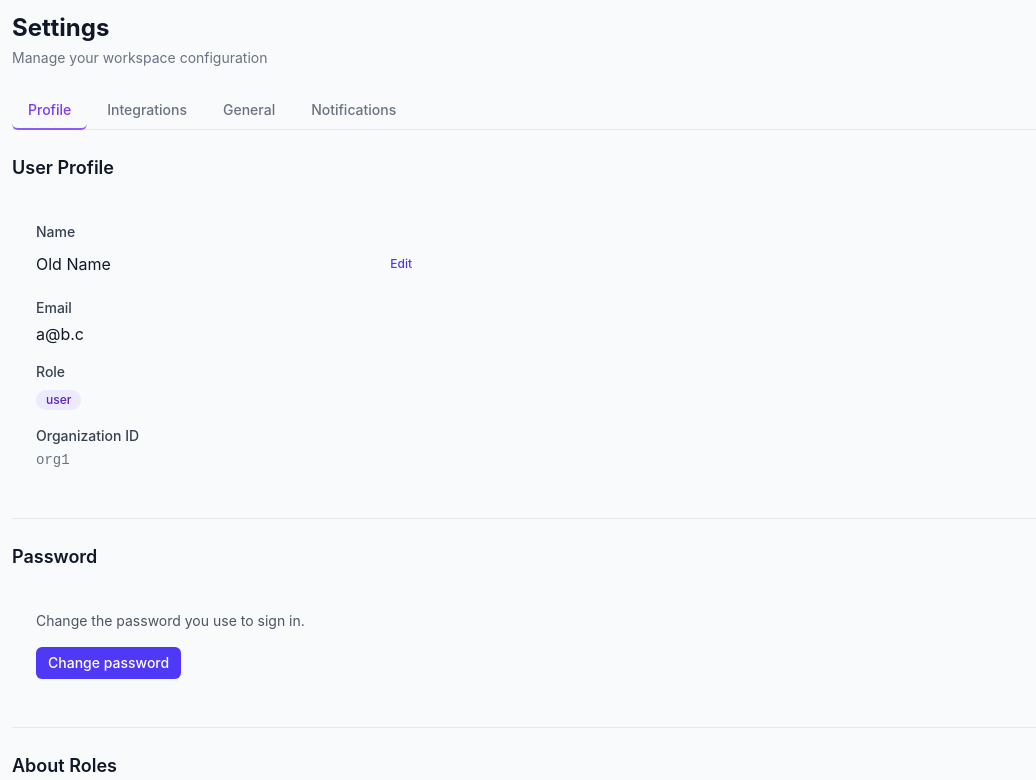
it: Settings → Profile tab → name editing › restores the stored value when the name editor is cancelled
Click the button "Edit": x=401, y=264 top-left (382, 252), bottom-right (420, 276)
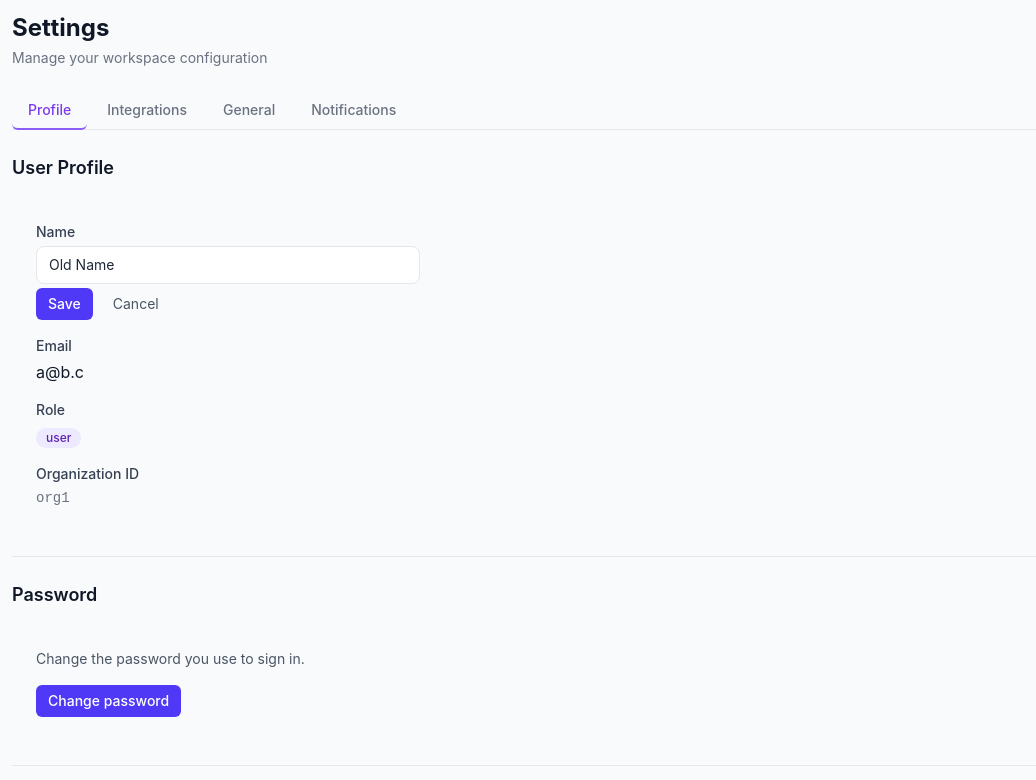
Replace the text in the field labelled "Name" with "Something Else": x=228, y=265 top-left (36, 246), bottom-right (420, 284)
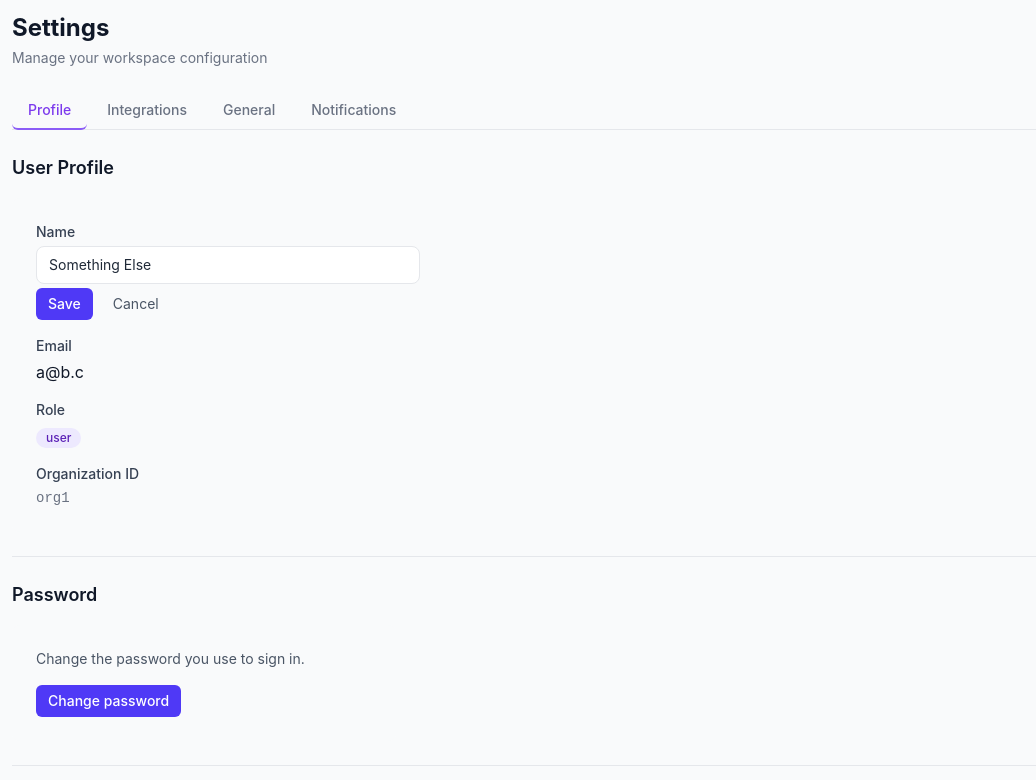
Click the button "Cancel": x=136, y=304 top-left (101, 288), bottom-right (171, 320)
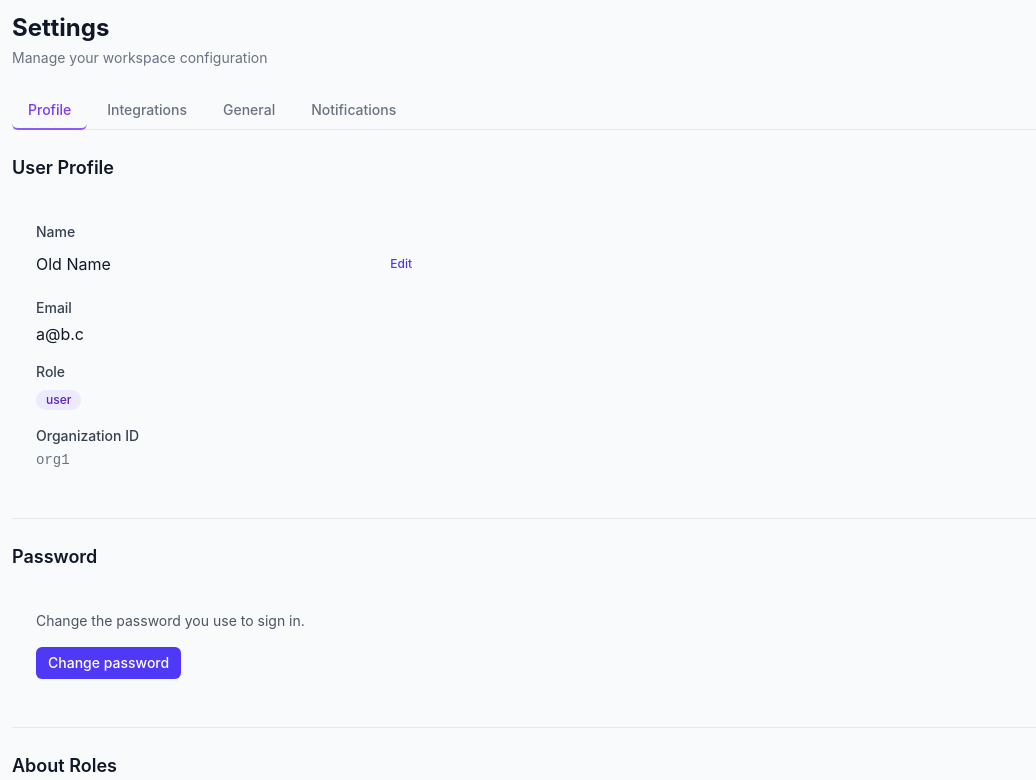
Expected: the text "Something Else" is not shown
Expected: the text "Old Name" is shown, top-left (36, 252), bottom-right (111, 276)
Click the button "Edit": x=401, y=264 top-left (382, 252), bottom-right (420, 276)
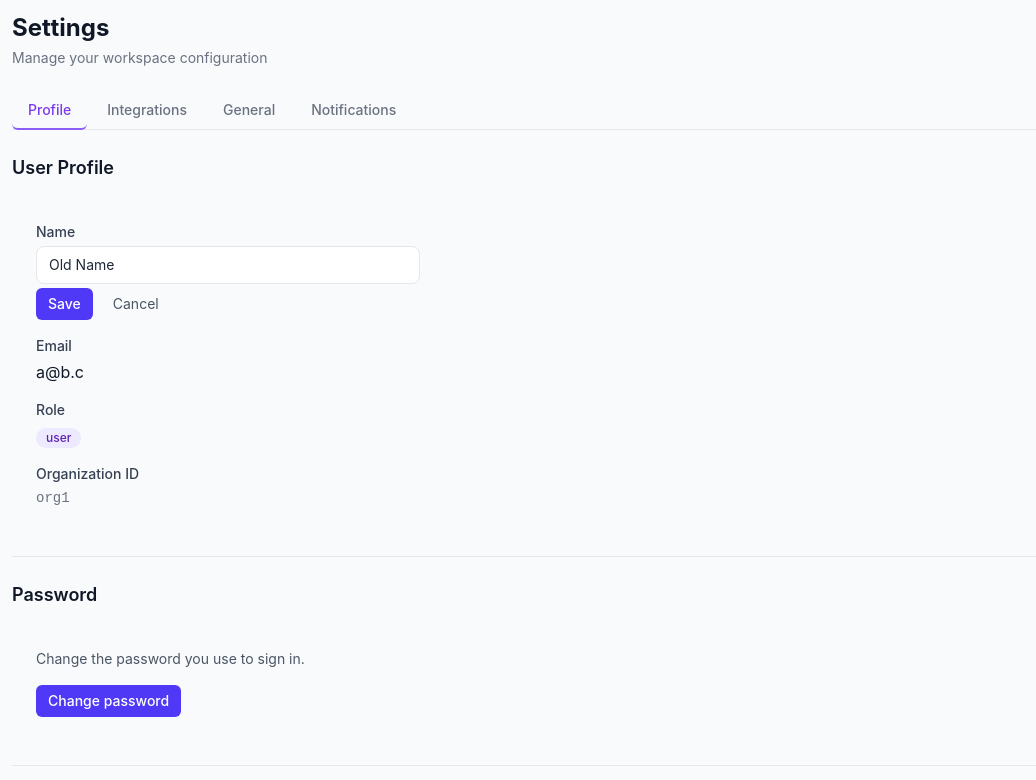
Expected: the field labelled "Name" holds "Old Name", top-left (36, 246), bottom-right (420, 284)
